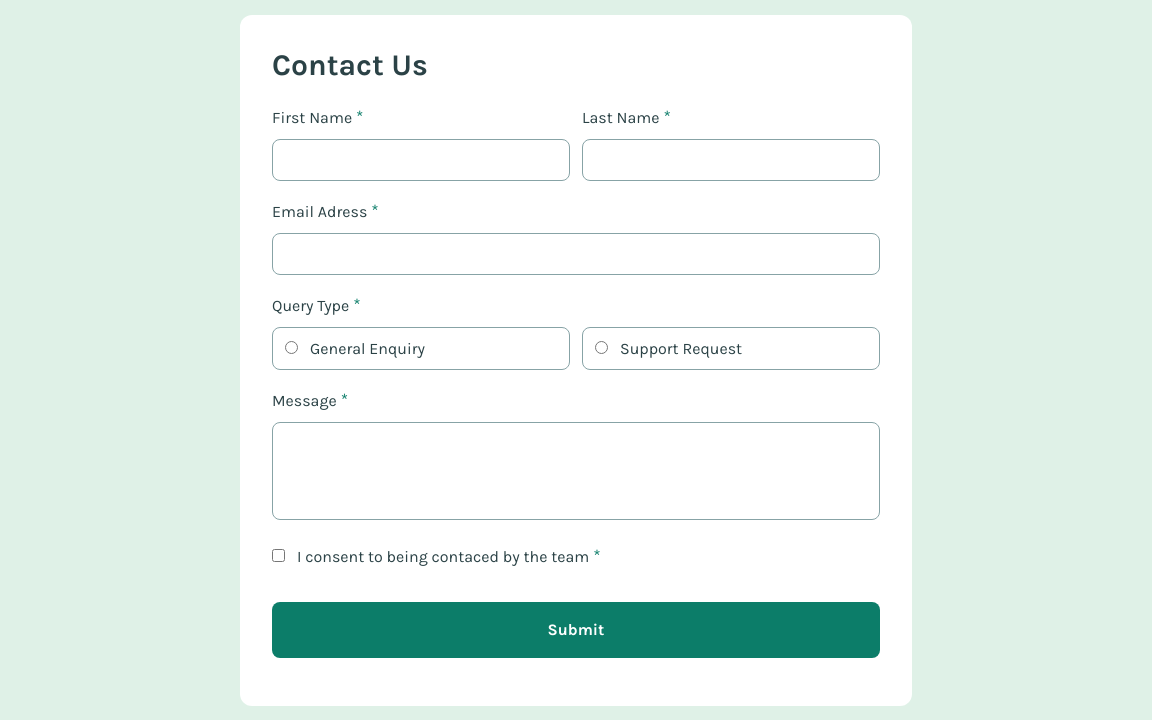
Scenario: MyForm › should display Message sent after valid submited
Type "Parisa" into the field labelled "First Name*" at (421, 160), box [272,138,570,180]
Type "Montakhabisani" into the field labelled "Last Name*" at (731, 160), box [582,138,880,180]
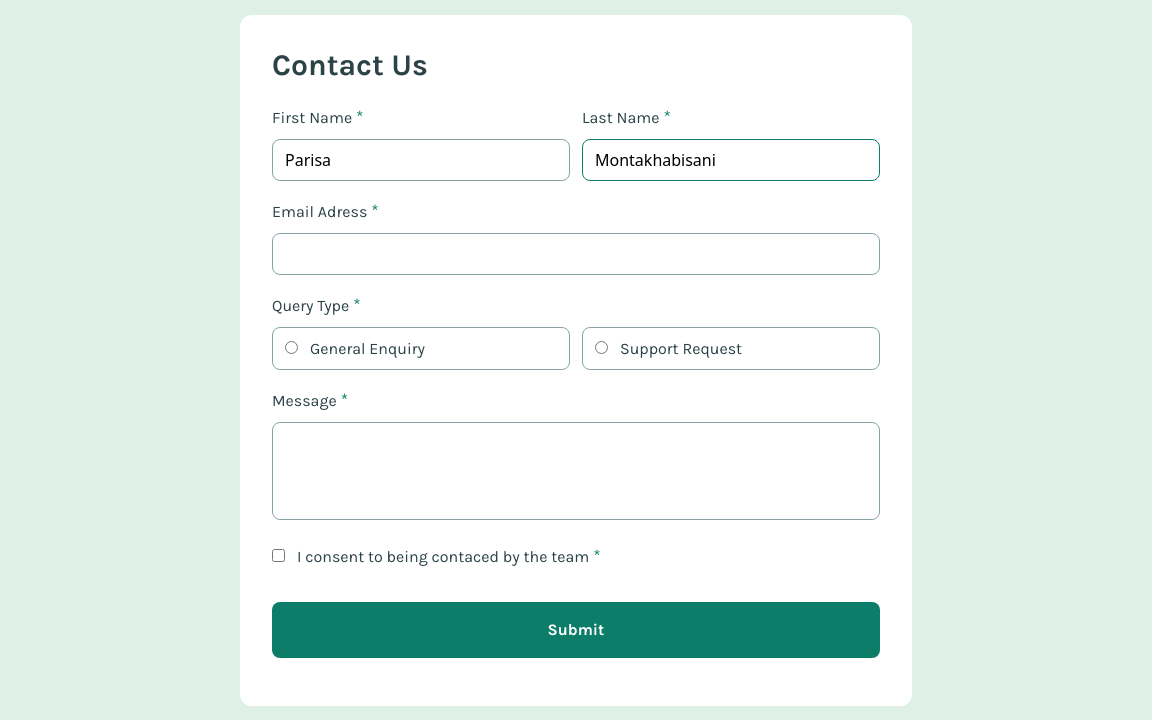
Type "user@gmail.com" into the field labelled "Email Adress*" at (576, 254), box [272,232,880,274]
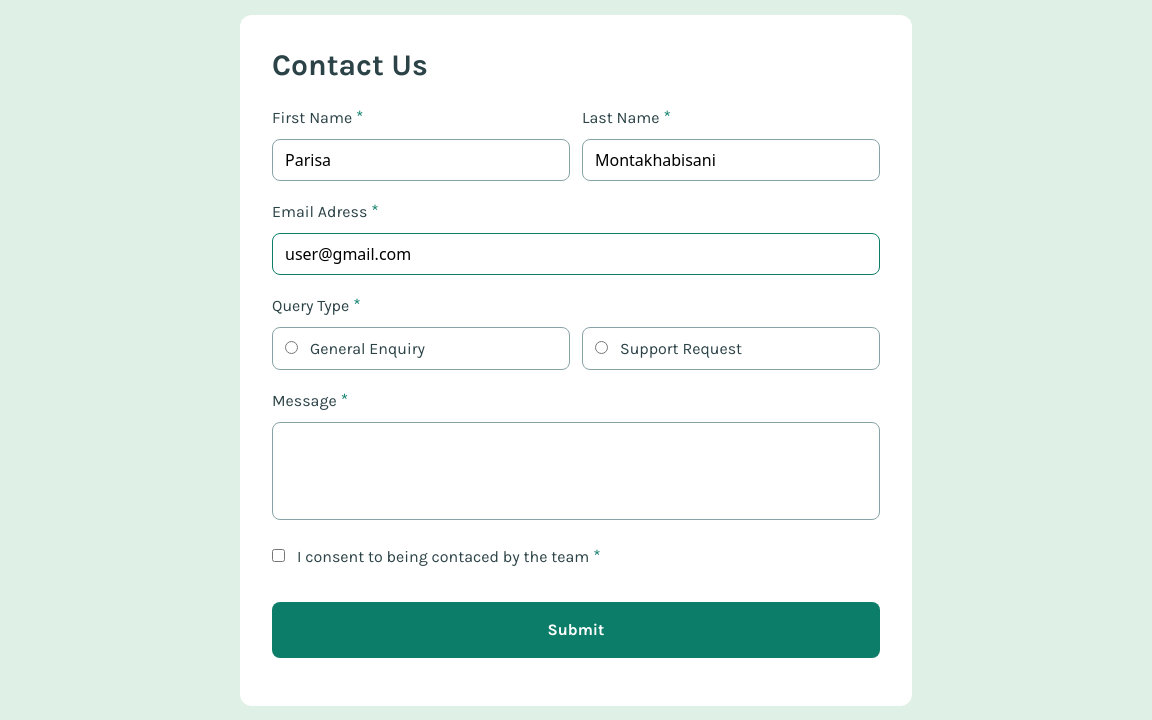
Click the radio button labelled "Support Request" at (602, 347), box [595,340,608,354]
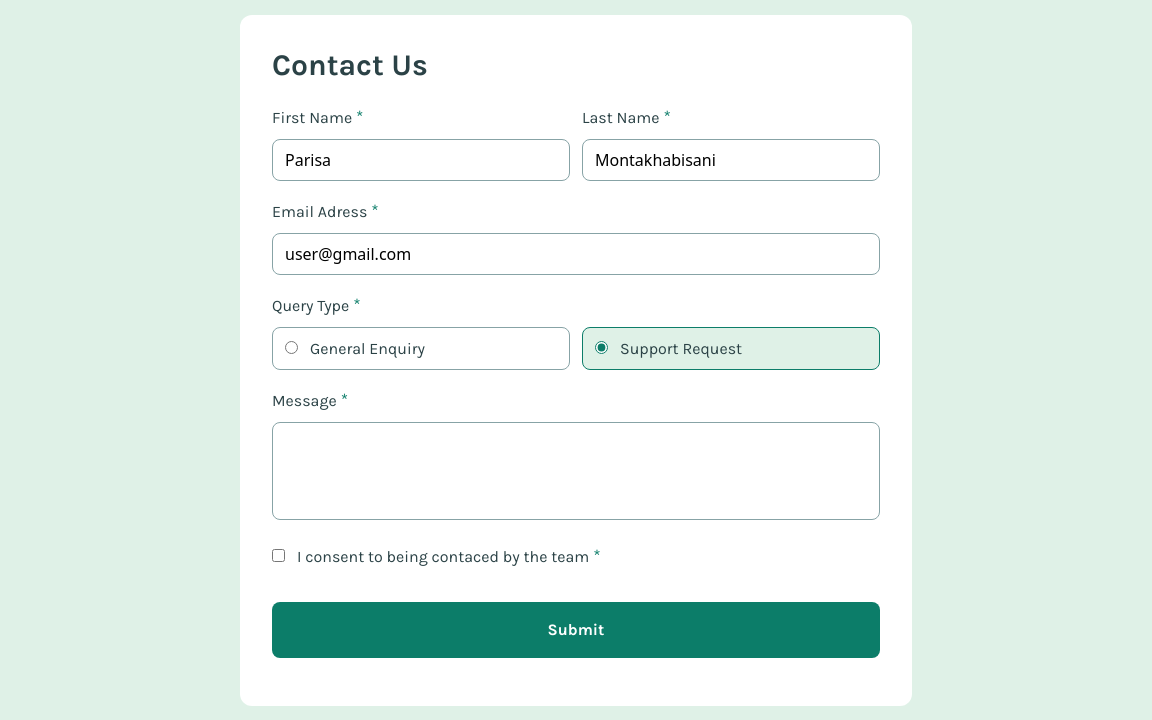
Type "This is a valid message" into the text box labelled "Message*" at (576, 470), box [272,422,880,520]
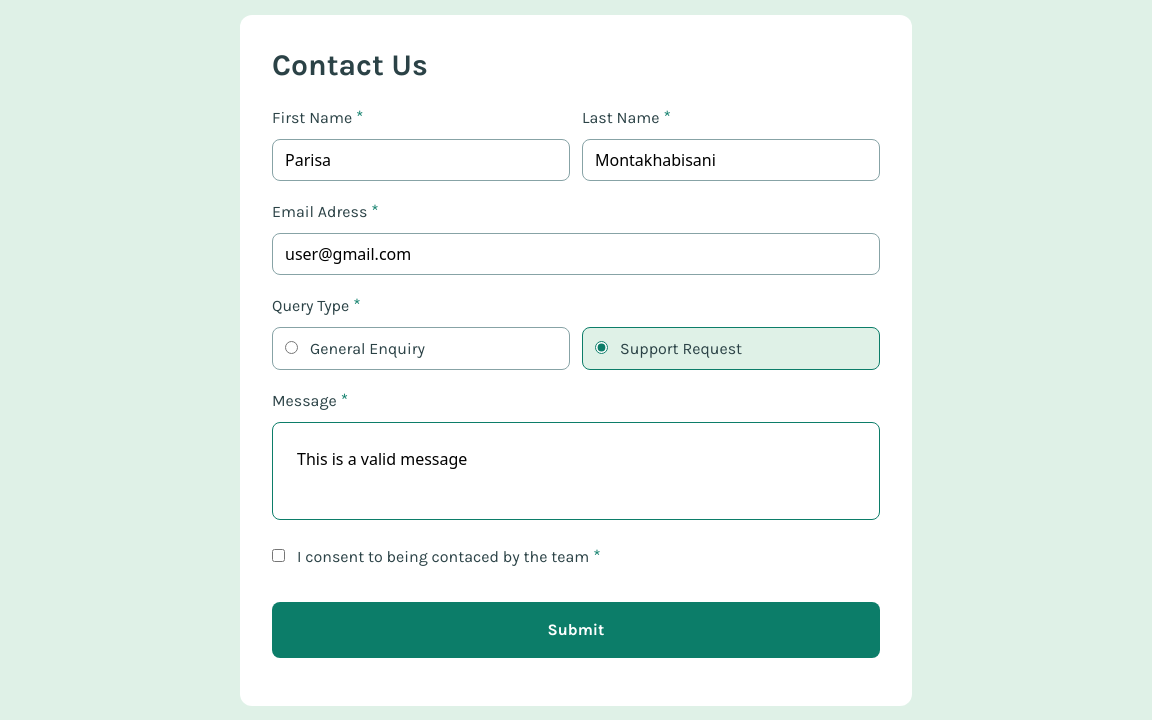
Click the text "I consent to being contaced by the team" at (443, 556), box [297,546,589,566]
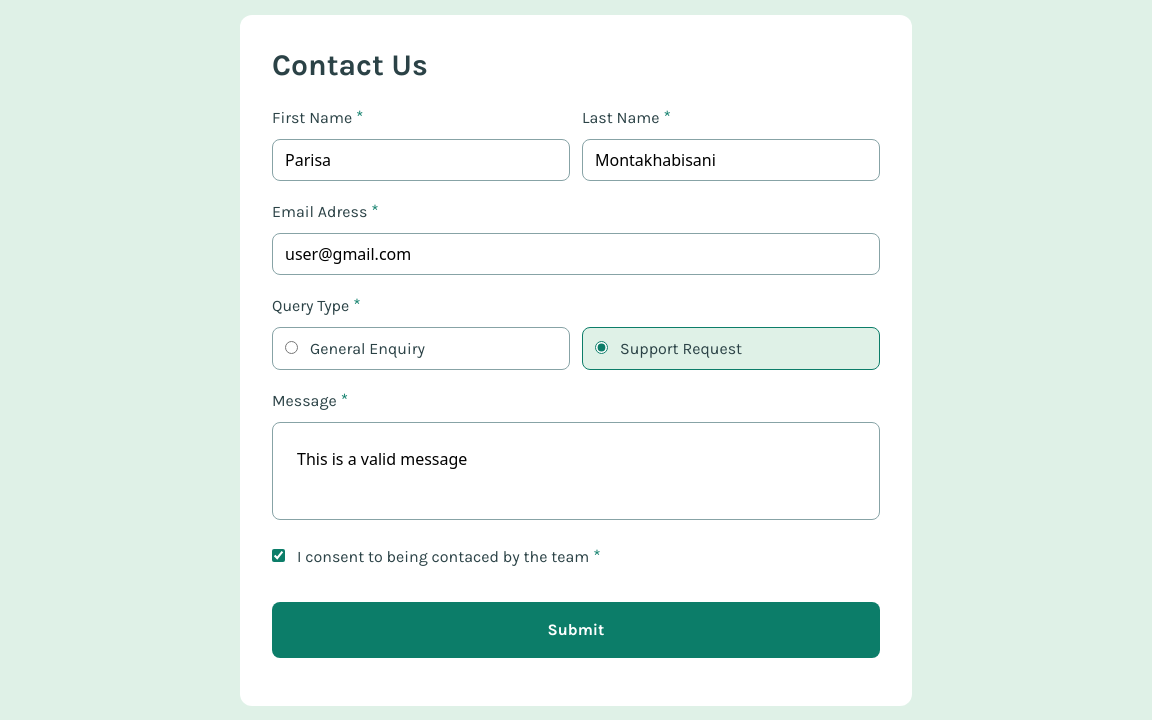
Click the button "Submit" at (576, 630), box [272,602,880,658]
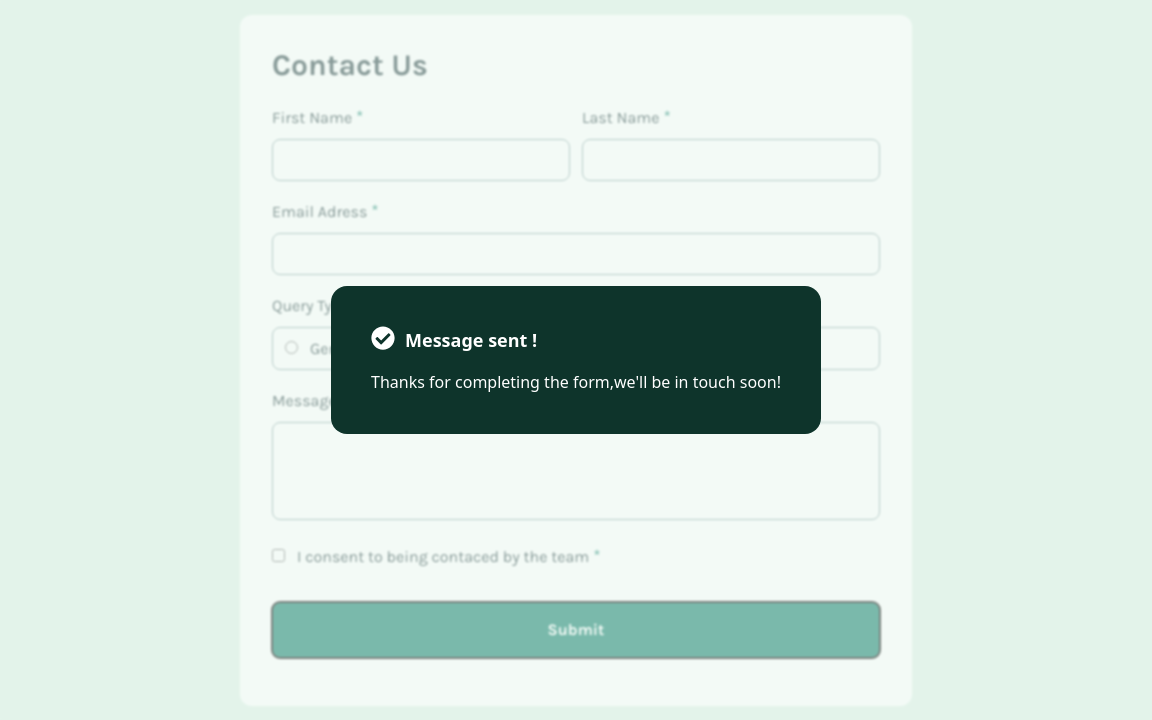
Now the text "Message sent !" is shown, box [405,326,537,354]
